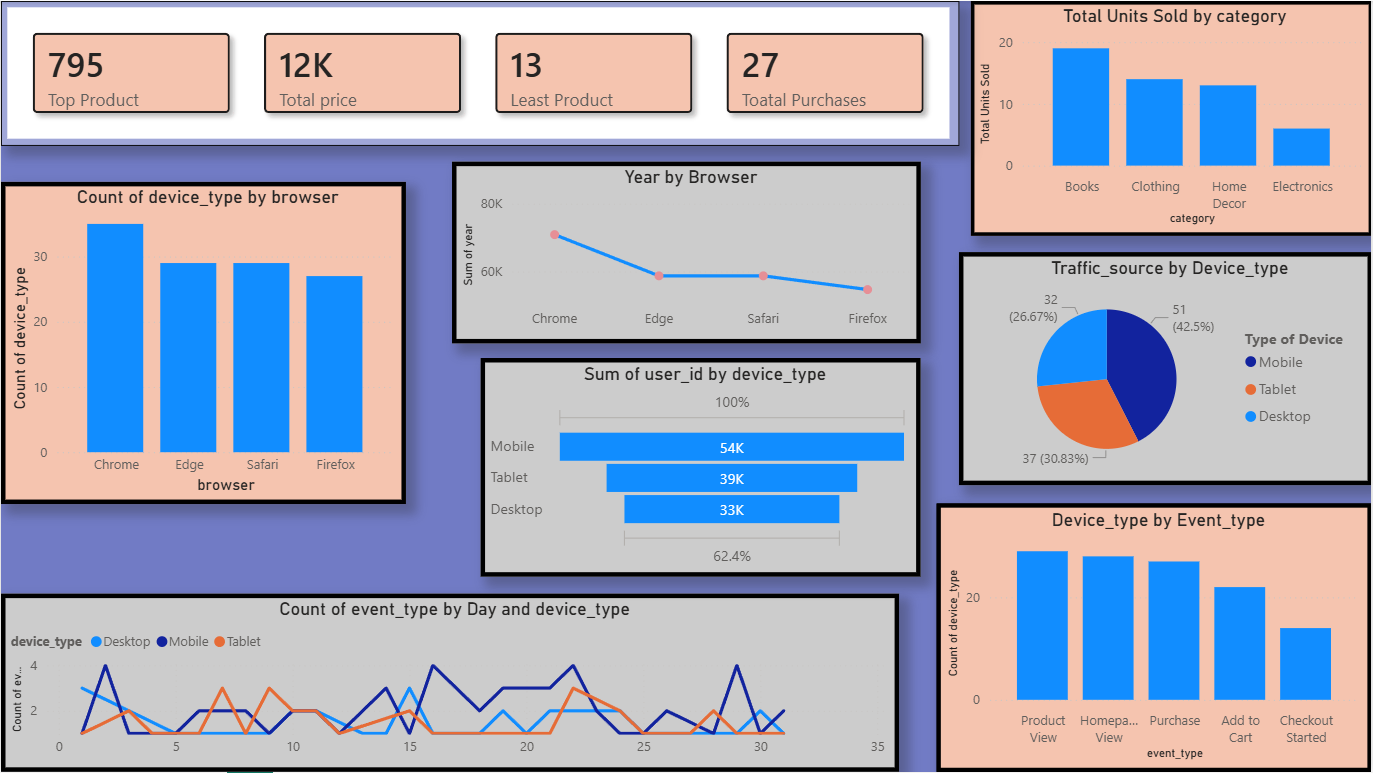

The dashboard page shown, as its layout file describes it:
{"tool":"powerbi","page":{"name":"Page 1","canvas":[1280,720],"ordinal":0},"visuals":[{"type":"columnChart","title":"Device_type by Event_type","fields":{"Category":["clickstream_full_dataset in'.event_type"],"Y":["CountNonNull(clickstream_full_dataset in'.device_type)"]},"box":[873.4,468.9,406.7,251.1],"z":0},{"type":"lineChart","title":" Year by Browser","fields":{"Category":["clickstream_full_dataset in'.browser"],"Y":["Sum(clickstream_full_dataset in'.year)"]},"box":[421.2,150,437.8,170],"z":1000},{"type":"pieChart","title":" Traffic_source by Device_type","fields":{"Category":["clickstream_full_dataset in'.device_type"],"Y":["CountNonNull(clickstream_full_dataset in'.traffic_source)"]},"box":[894.6,234.5,385.6,217.8],"z":2000},{"type":"columnChart","fields":{"Y":["clickstream_full_dataset in'.Total Units Sold"],"Category":["clickstream_full_dataset in'.category"]},"box":[905.7,0,374.5,218.9],"z":3000},{"type":"lineChart","fields":{"Category":["clickstream_full_dataset in'.Date.1.Variation.Date Hierarchy.Day"],"Y":["CountNonNull(clickstream_full_dataset in'.event_type)"],"Series":["clickstream_full_dataset in'.device_type"]},"box":[0,553.4,839,166.7],"z":4000},{"type":"funnel","fields":{"Y":["Sum(clickstream_full_dataset in'.user_id)"],"Category":["clickstream_full_dataset in'.device_type"]},"box":[447.8,333.4,411.2,204.5],"z":5000},{"type":"cardVisual","fields":{"Data":["clickstream_full_dataset in'.Top Product1","Sum(clickstream_full_dataset in'.price)","clickstream_full_dataset in'.Least Product","clickstream_full_dataset in'.Purchases"]},"box":[0,0,894.6,135.6],"z":6000},{"type":"lineStackedColumnComboChart","fields":{"Category":["clickstream_full_dataset in'.browser"],"Y":["CountNonNull(clickstream_full_dataset in'.device_type)"]},"box":[0,168.9,377.8,301.1],"z":7000}]}

Visuals, with their boxes in screenshot pixels (x1, y1, x2, y2), scaled from the page's 1280x720 canvas onto the 1373x773 screenshot:
"Device_type by Event_type" columnChart: box=[937, 503, 1372, 772]
" Year by Browser" lineChart: box=[452, 161, 921, 344]
" Traffic_source by Device_type" pieChart: box=[960, 252, 1372, 486]
columnChart - clickstream_full_dataset in'.Total Units Sold x clickstream_full_dataset in'.category: box=[972, 0, 1372, 235]
lineChart - clickstream_full_dataset in'.Date.1.Variation.Date Hierarchy.Day x CountNonNull(clickstream_full_dataset in'.event_type): box=[0, 594, 900, 772]
funnel - Sum(clickstream_full_dataset in'.user_id) x clickstream_full_dataset in'.device_type: box=[480, 358, 921, 577]
cardVisual - clickstream_full_dataset in'.Top Product1 x Sum(clickstream_full_dataset in'.price): box=[0, 0, 960, 146]
lineStackedColumnComboChart - clickstream_full_dataset in'.browser x CountNonNull(clickstream_full_dataset in'.device_type): box=[0, 181, 405, 505]
